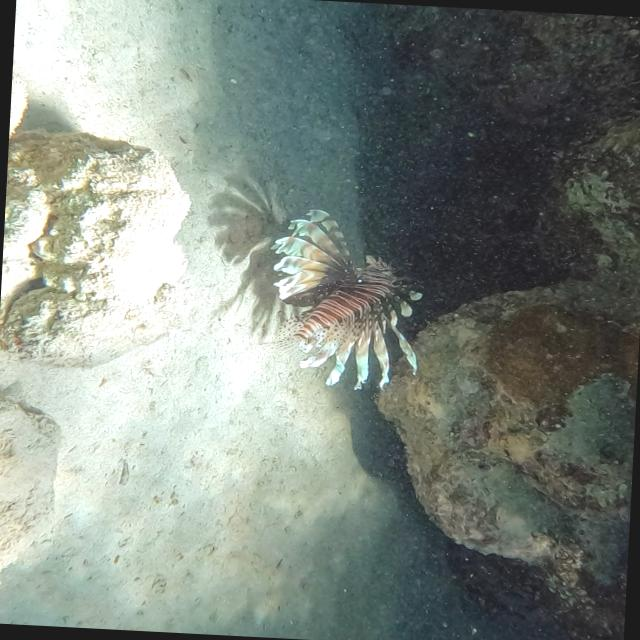Aslan Baligi: (238, 202, 458, 395)
